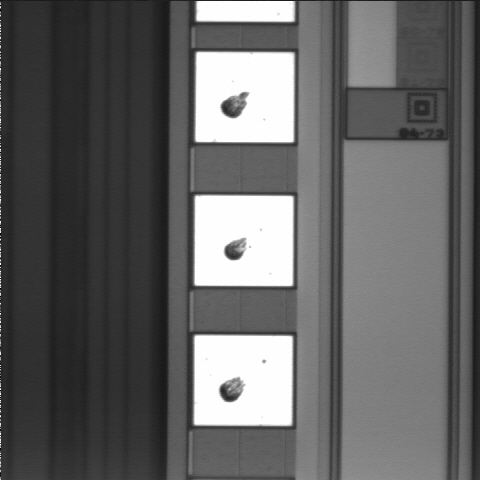pad: (194, 335, 292, 426), (195, 52, 294, 142), (195, 196, 293, 286)
